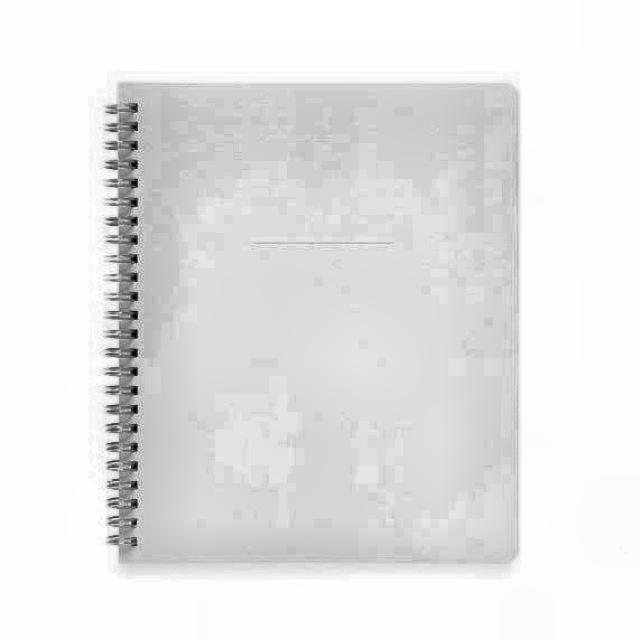Notebook: (100, 70, 536, 588)
